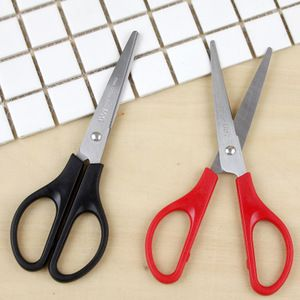scissor: (143, 38, 294, 296), (9, 28, 137, 284)
